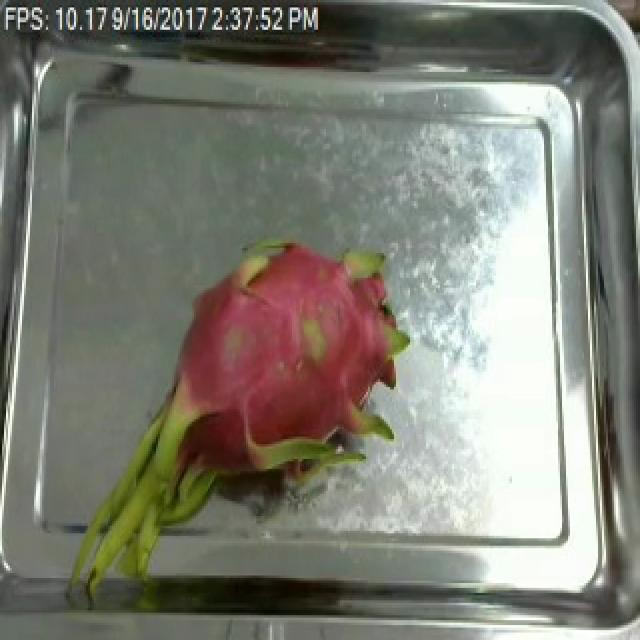fruit: (84, 214, 416, 566)
